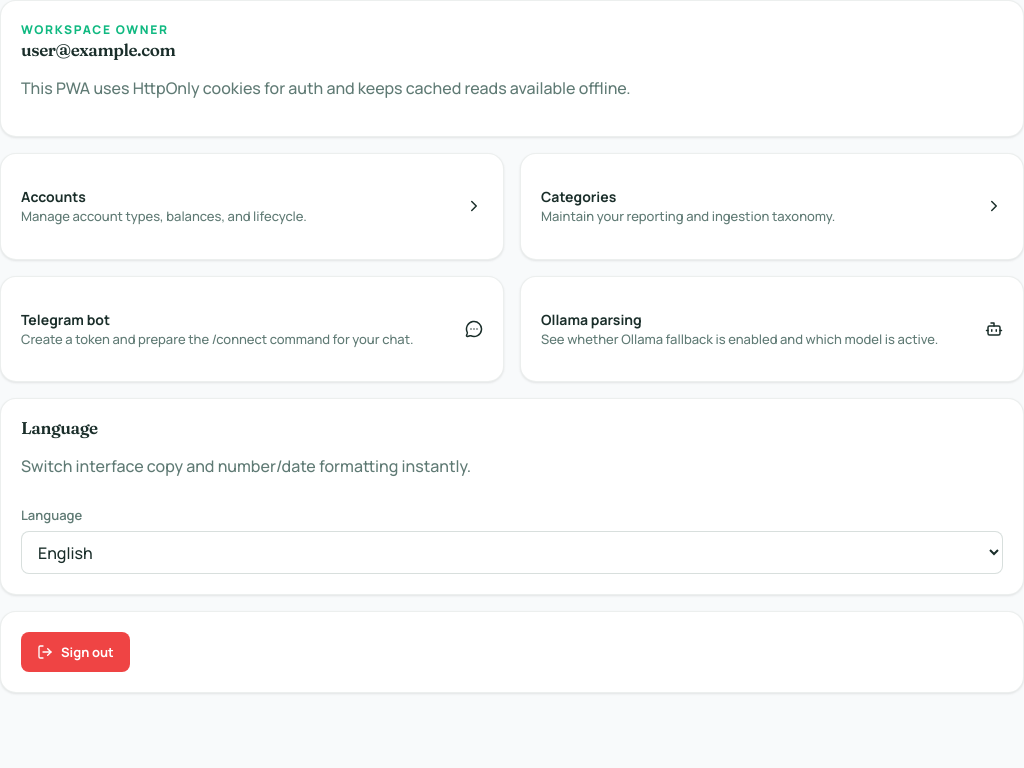
Test: SettingsPage › switches the interface language to Russian
Expected: the heading "Language" is shown, [21,417,98,438]
Expected: the text "Telegram bot" is shown, [21,310,110,329]
Select "Russian" in the dropdown labelled "Language" at [512, 553], box [21,531,1003,574]
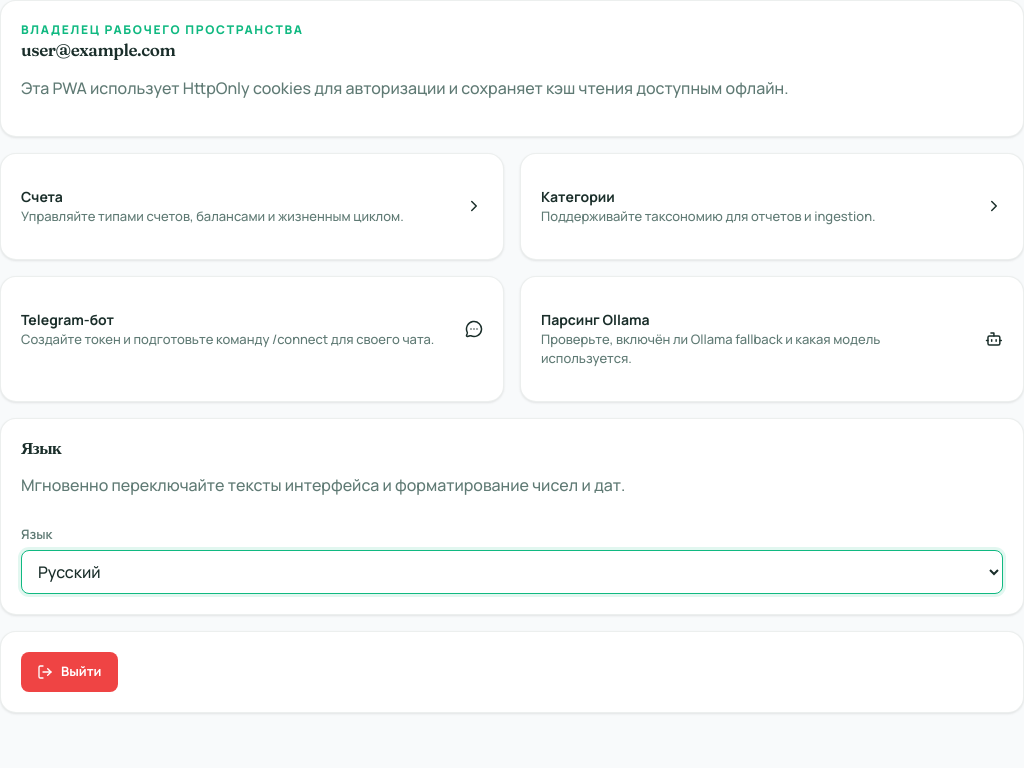
Now the heading "Язык" is shown, box [21,437,62,458]
Now the button "Выйти" is shown, box [21,652,118,692]
Now the text "Telegram-бот" is shown, box [21,310,114,329]
